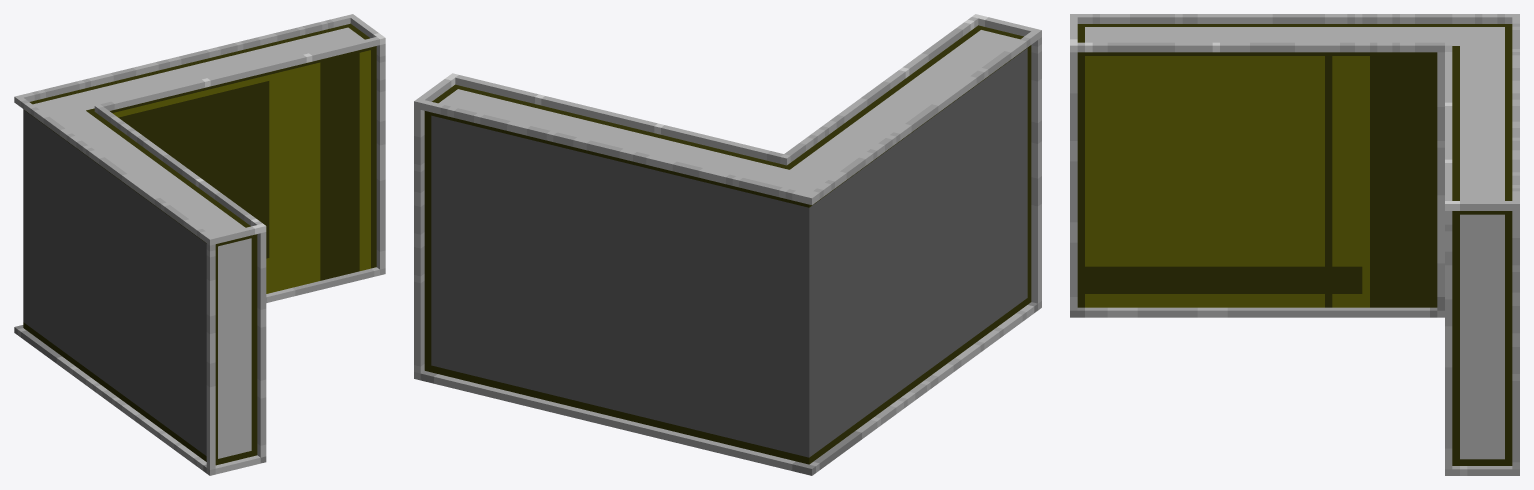
The model's file is Barraks Corner.obj.
The picture shows the model from 3 angles, left to right: view 1: azimuth 30°, elevation 25°; view 2: azimuth 150°, elevation 25°; view 3: azimuth 270°, elevation 25°; orthographic projection. The views are drawn at different scales.
Bounding box in the file's own units: 60 × 40 × 60.
Materials: 1 (1 with a texture image).
